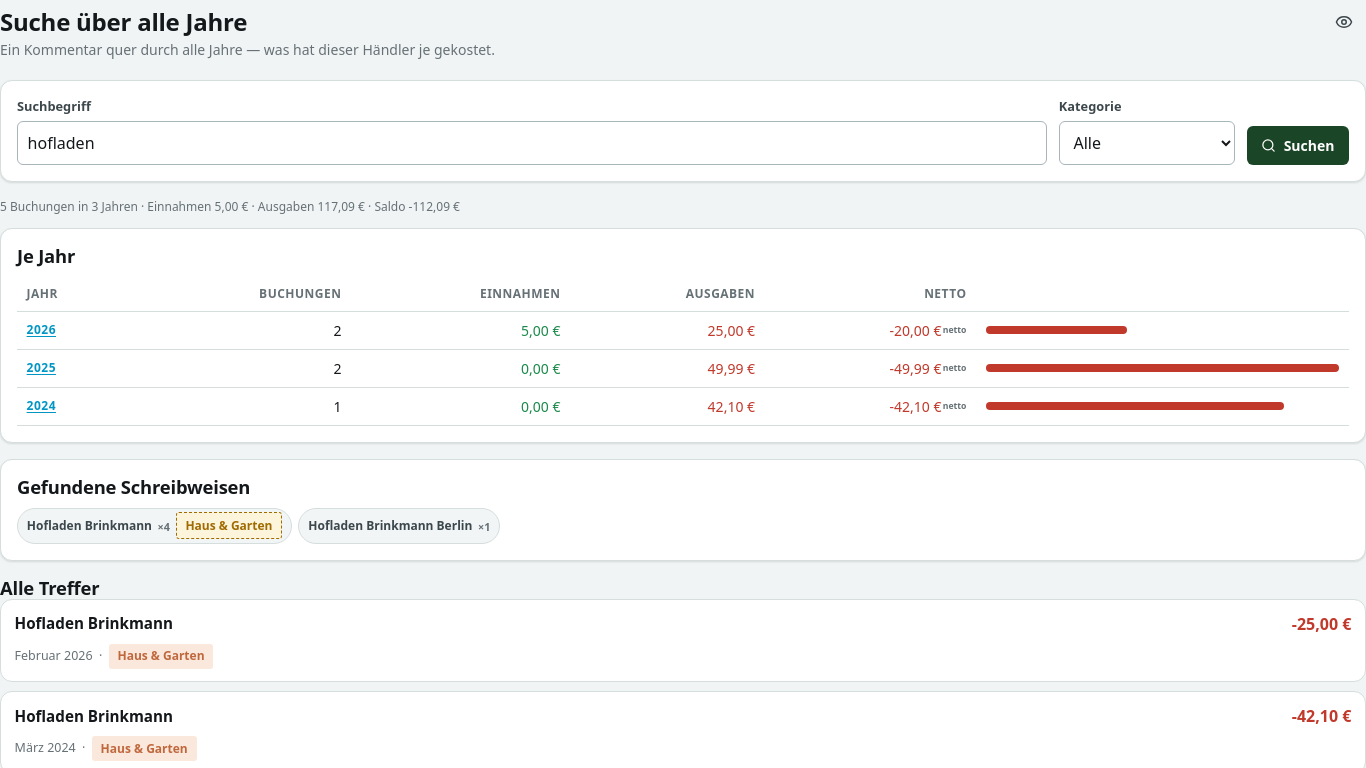
Test: the cross-year search › opens a hit in the editor
Click the button "Hofladen Brinkmann -25,00 € Februar 2026 · Haus & Garten": (94, 623) [0, 599, 1365, 682]
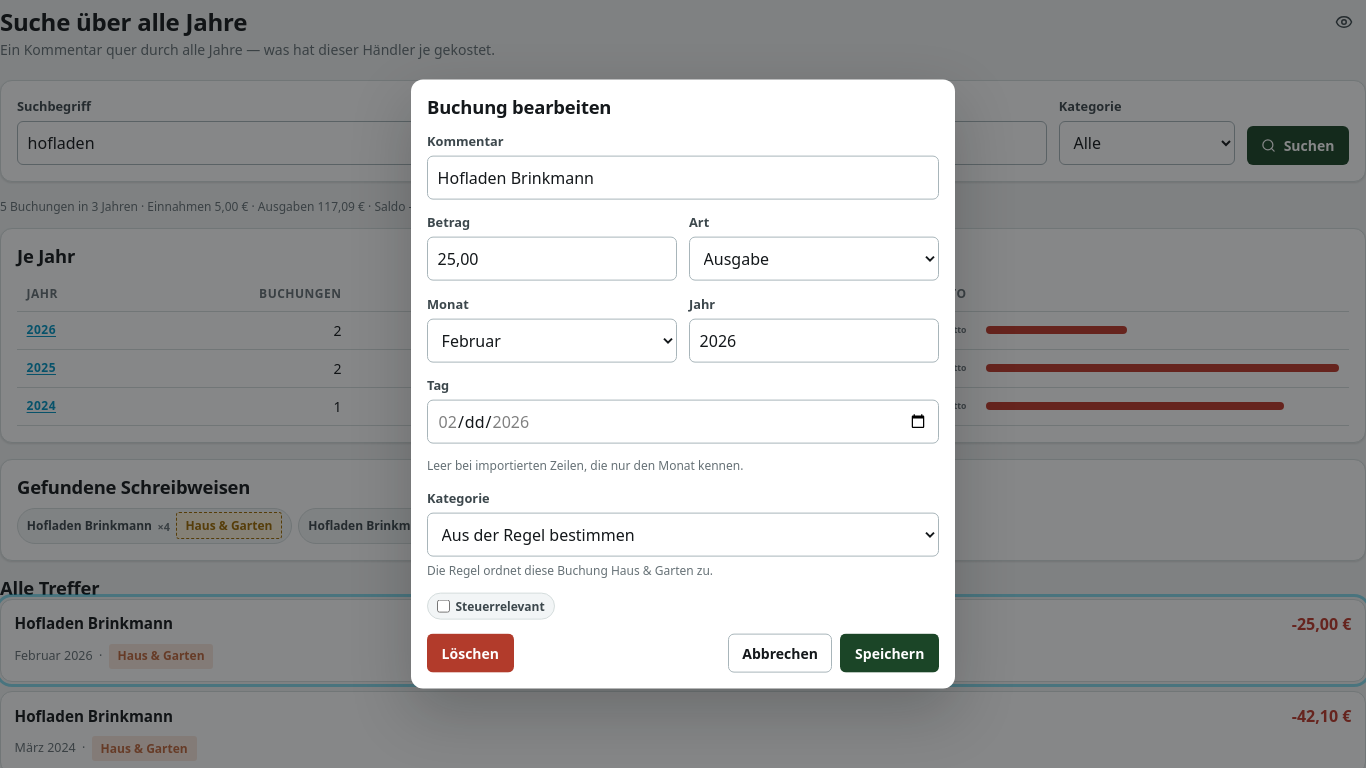
Expected: the dialog is shown, [411, 80, 955, 688]
